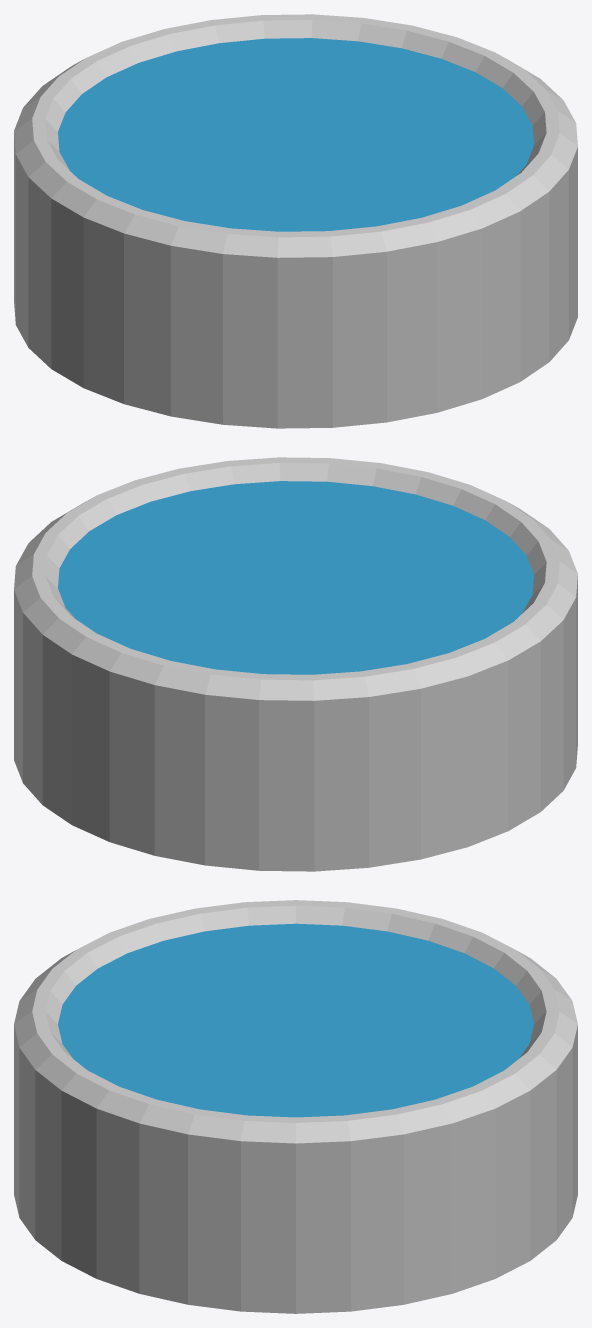
Rendered from lataConservas1.fbx.
The picture shows the model from 3 angles, top to bottom: view 1: azimuth 30°, elevation 25°; view 2: azimuth 150°, elevation 25°; view 3: azimuth 270°, elevation 25°; orthographic projection.
Parts seen in each view (by area): view 1: Cylinder; view 2: Cylinder; view 3: Cylinder.
Part boxes in pixels (box(x1,y1,x2,y2)): Cylinder: box(14, 14, 577, 428); Cylinder: box(14, 457, 577, 871); Cylinder: box(14, 900, 577, 1313).
Bounding box in the file's own units: 200 × 71.67 × 200.
